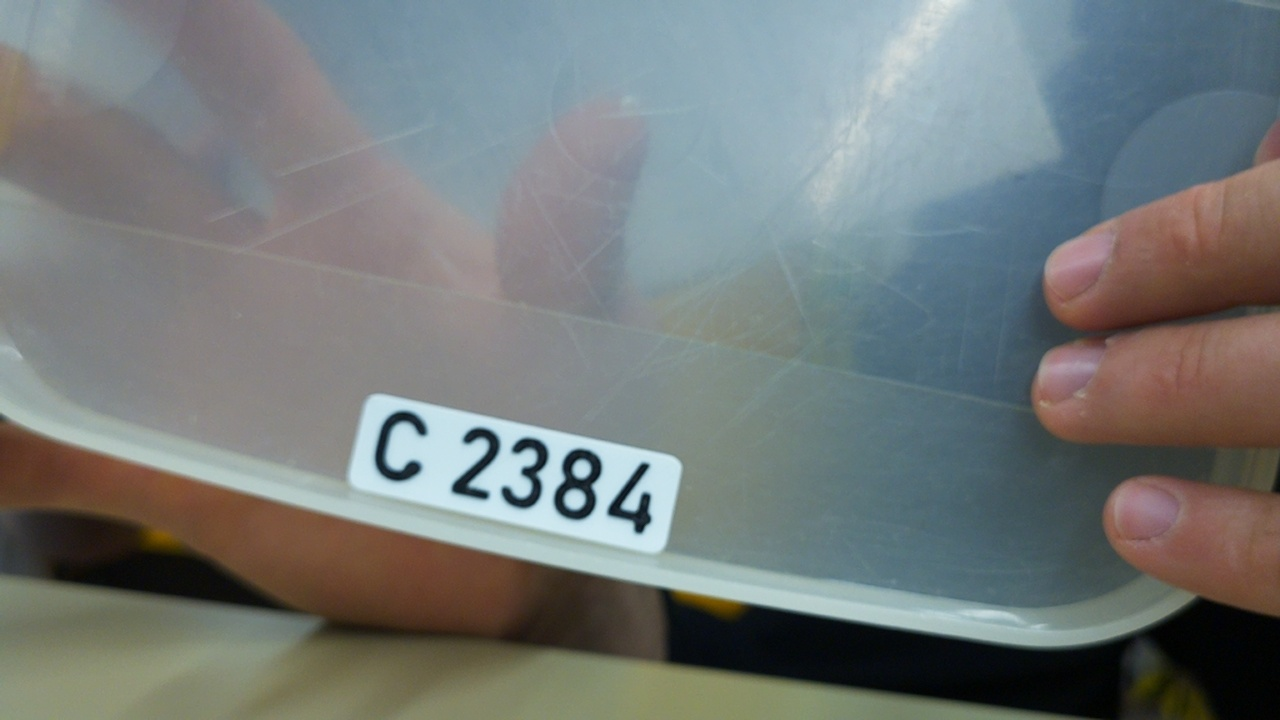license_plate: (344, 389, 687, 557)
